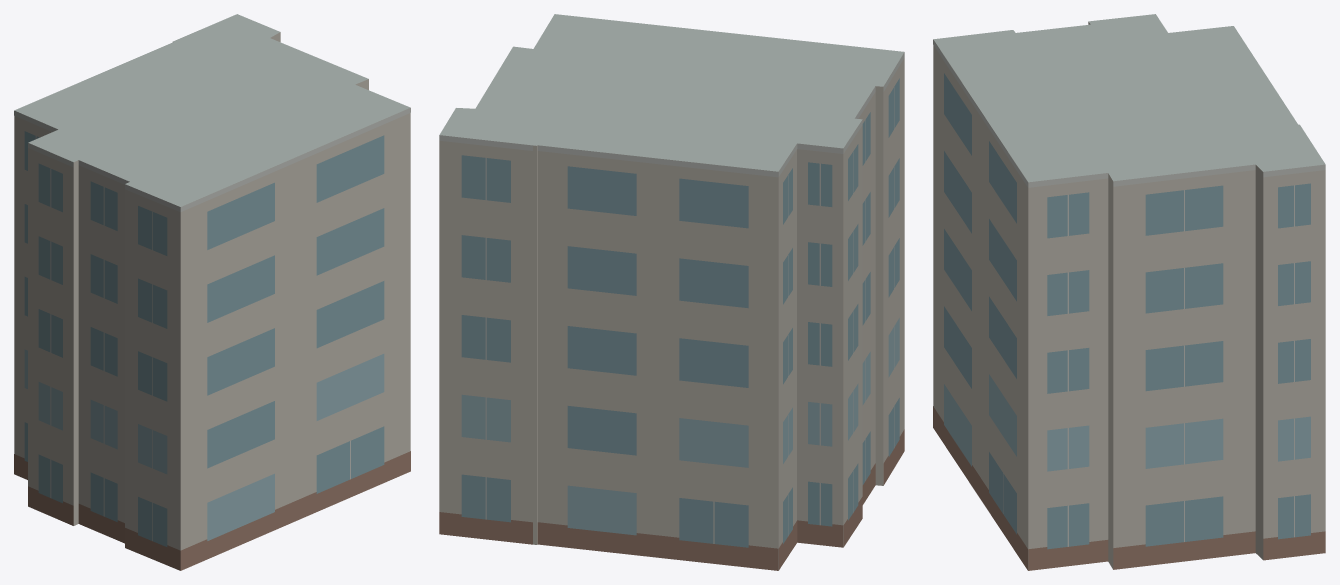
Rendered from survey-upis-32921077.glb.
The picture shows the model from 3 angles, left to right: view 1: azimuth 30°, elevation 25°; view 2: azimuth 150°, elevation 25°; view 3: azimuth 270°, elevation 25°; orthographic projection. The views are drawn at different scales.
Visible parts, largest first — view 1: survey-upis-32921077.tmp; view 2: survey-upis-32921077.tmp; view 3: survey-upis-32921077.tmp.
Boxes of the visible parts, box(x1,y1,x2,y2) form: survey-upis-32921077.tmp: box(14, 14, 410, 570); survey-upis-32921077.tmp: box(439, 14, 904, 570); survey-upis-32921077.tmp: box(933, 14, 1325, 570).
Size of the model in its own units: 15.99 by 17.2 by 15.76.
